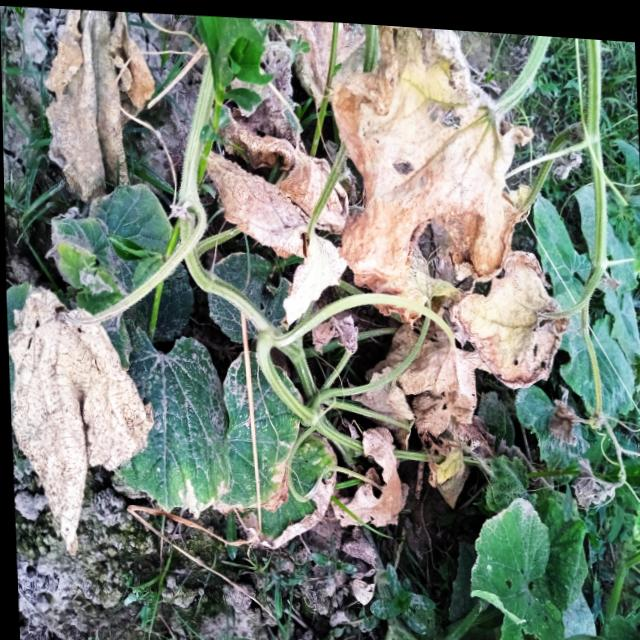Bacterial-Wilt: (329, 20, 540, 293), (6, 285, 152, 557), (203, 145, 348, 323), (41, 10, 155, 197), (345, 316, 493, 450), (449, 243, 567, 380)
